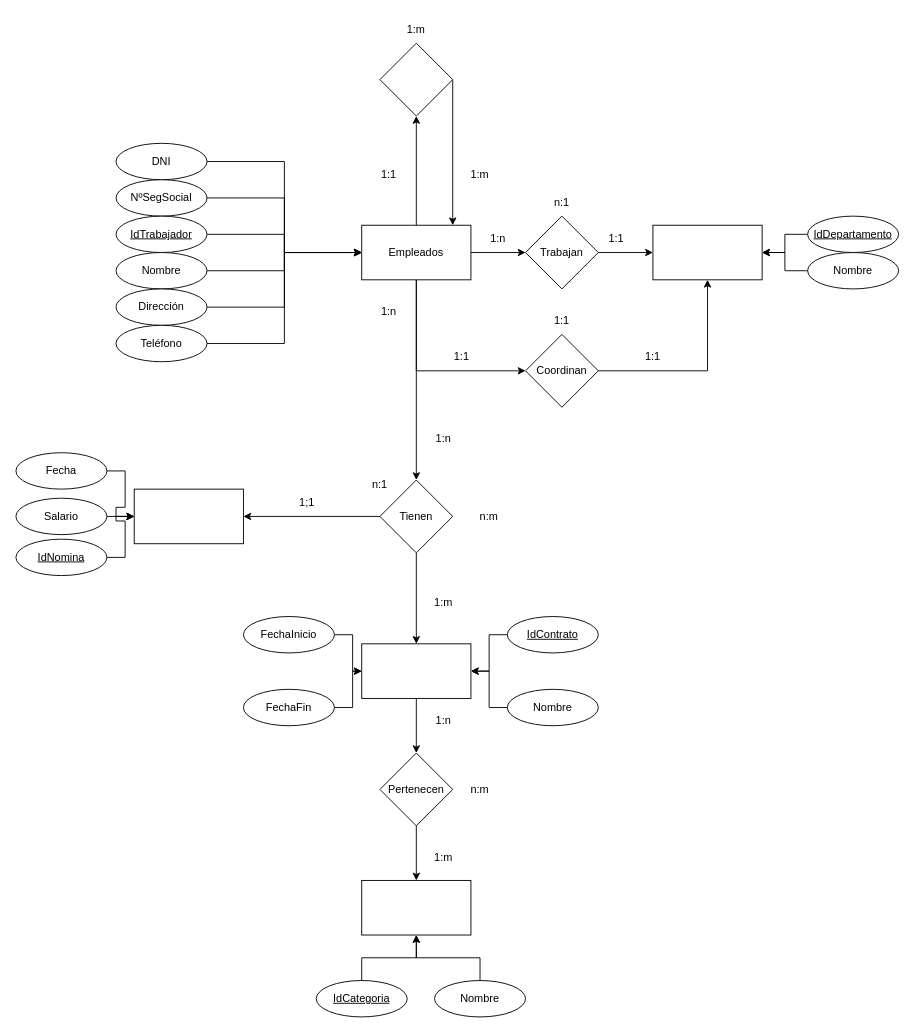
Some shapes in this 915 by 1033 pixel diagram are drawn without their labels. The shapes that lost their labels are listed below. From the top down, each one's centre as x and y in pixels, then its label:
At point (416, 79): "Dirigen".
At point (707, 252): "Departamentos".
At point (188, 516): "Nominas".
At point (416, 670): "Contratos".
At point (416, 907): "Categoría".
